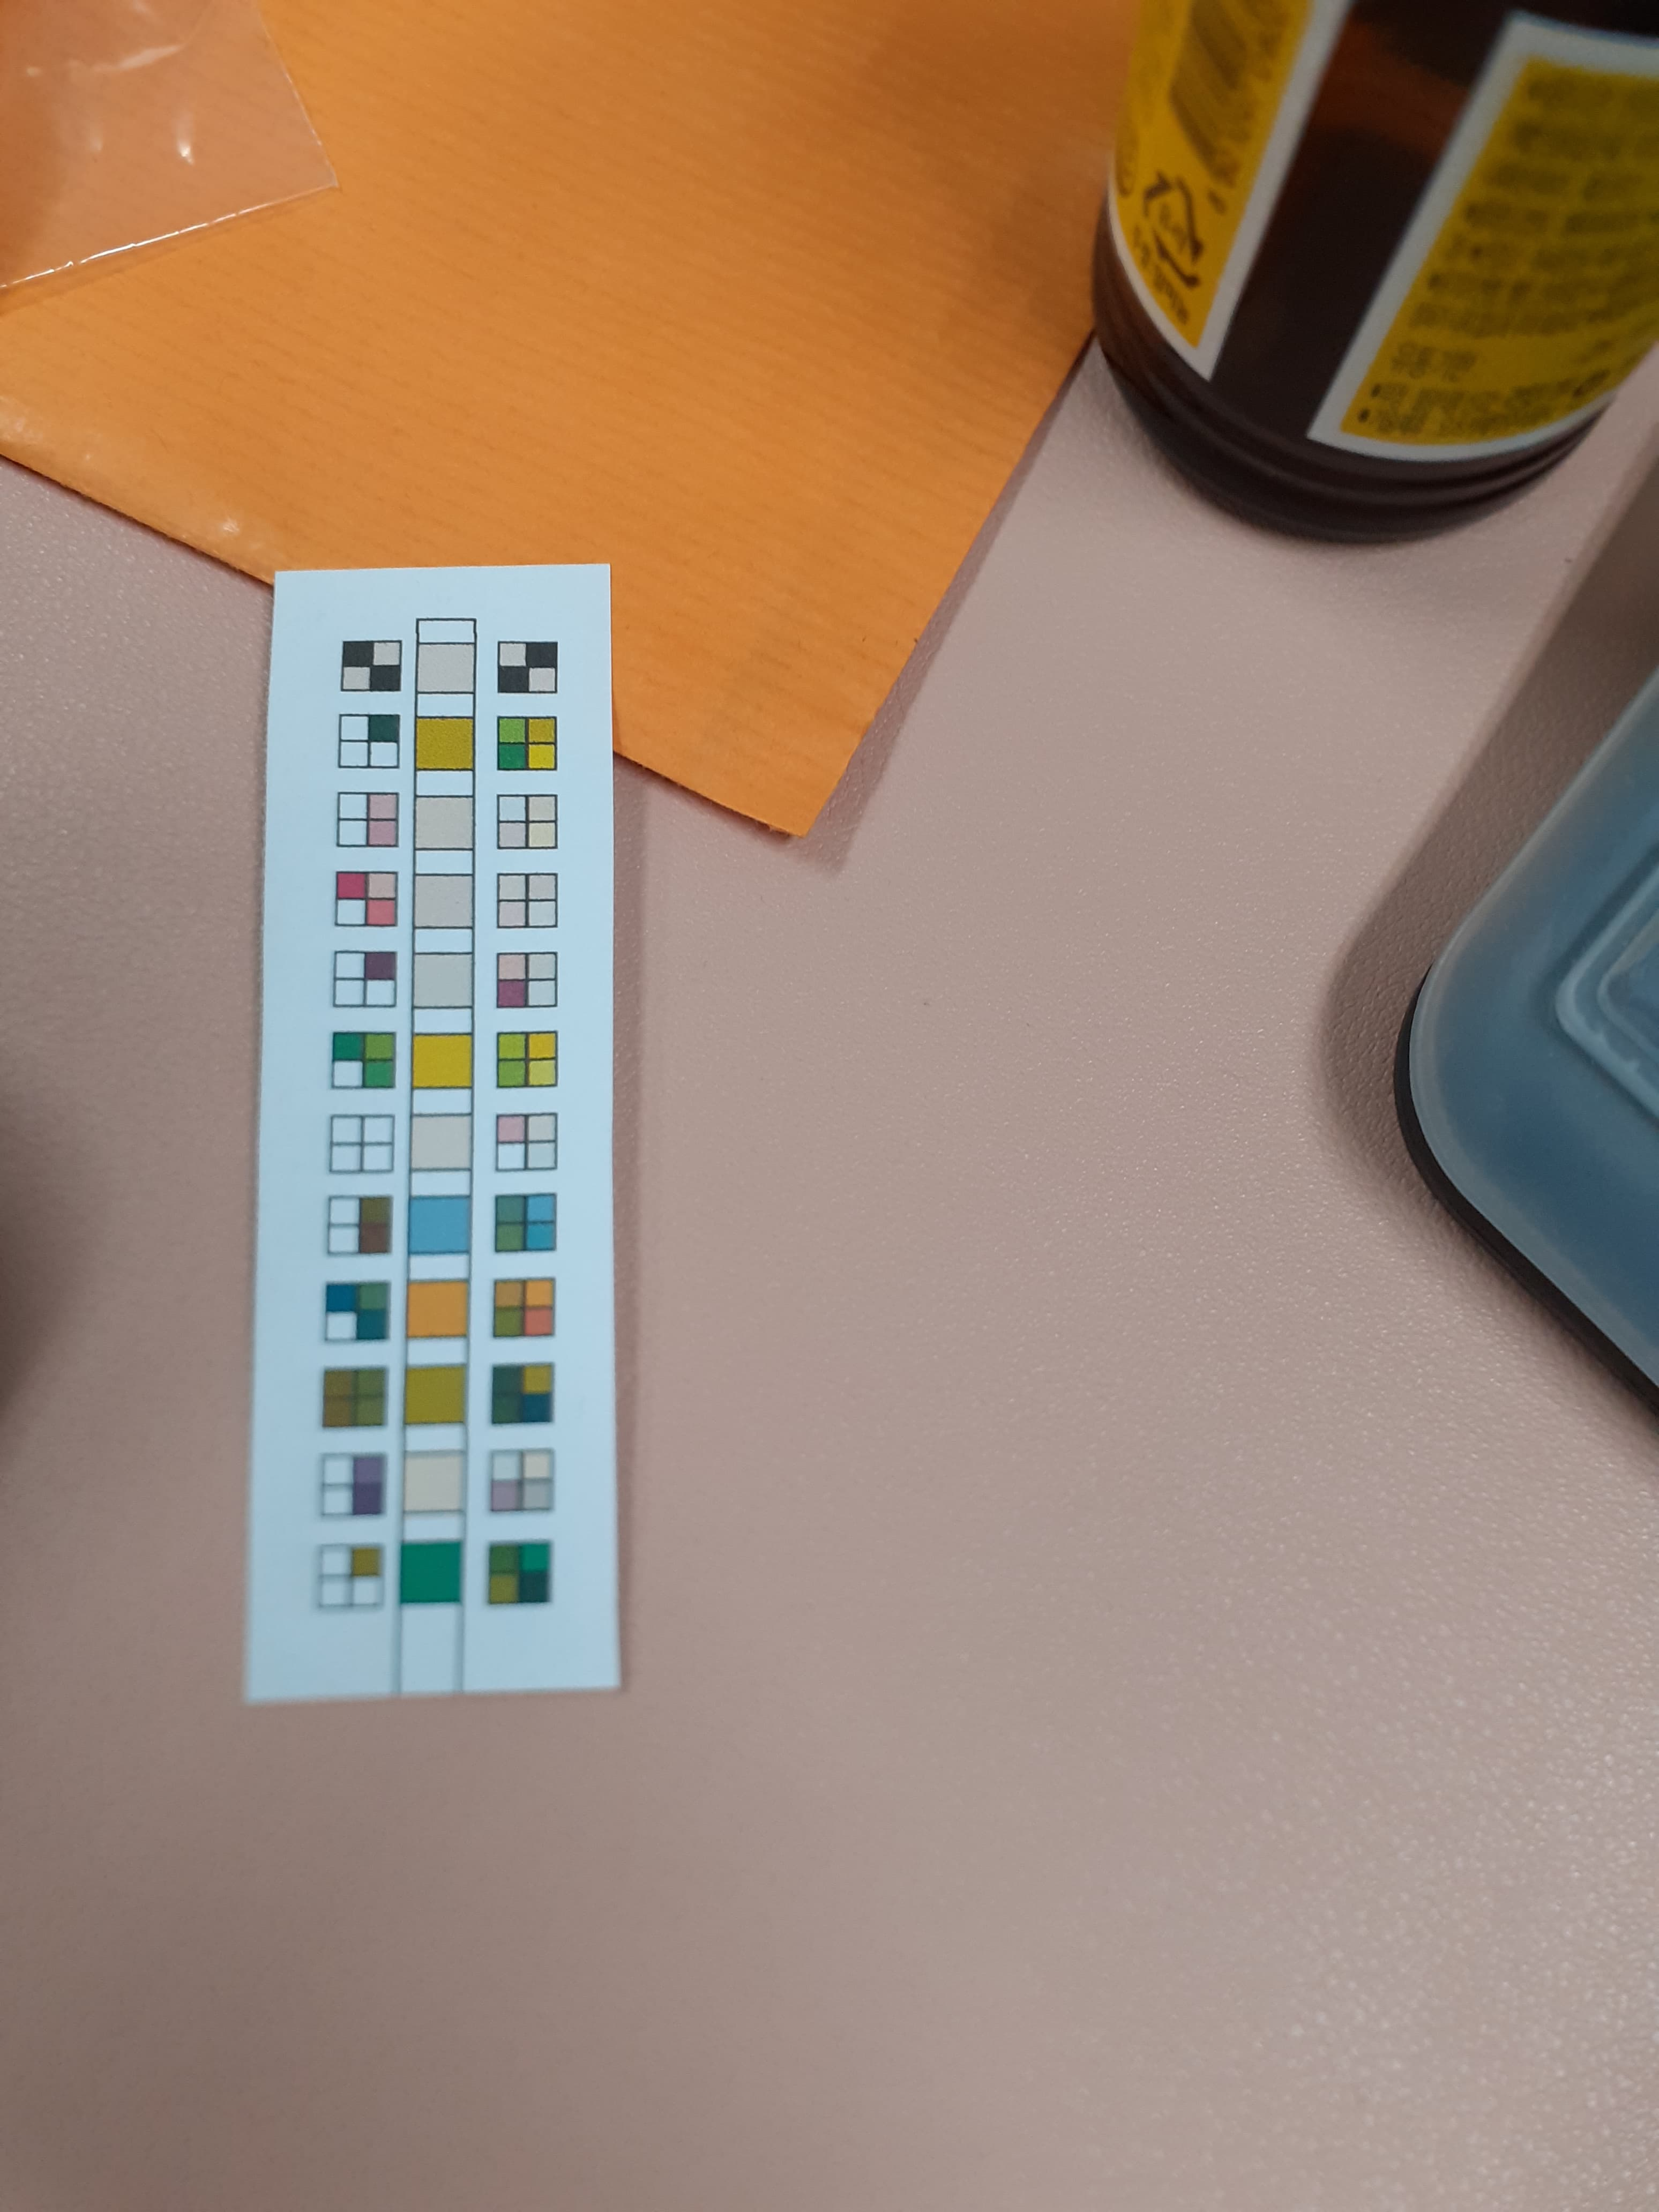tester: (274, 563, 617, 1691)
